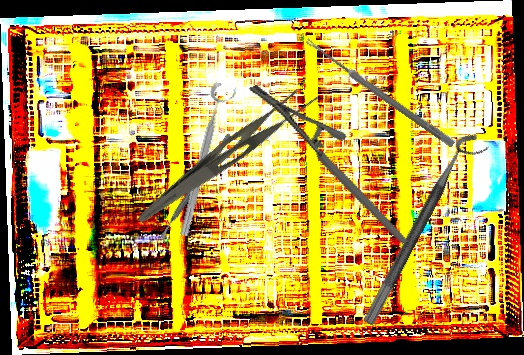Chopper: (131, 133, 261, 245)
Dressing Forceps: (134, 73, 323, 243)
Fixation Ring: (361, 128, 492, 335), (175, 81, 239, 240)
Needle Holder: (247, 54, 409, 276)
Surgical Spoon: (303, 37, 457, 148)
